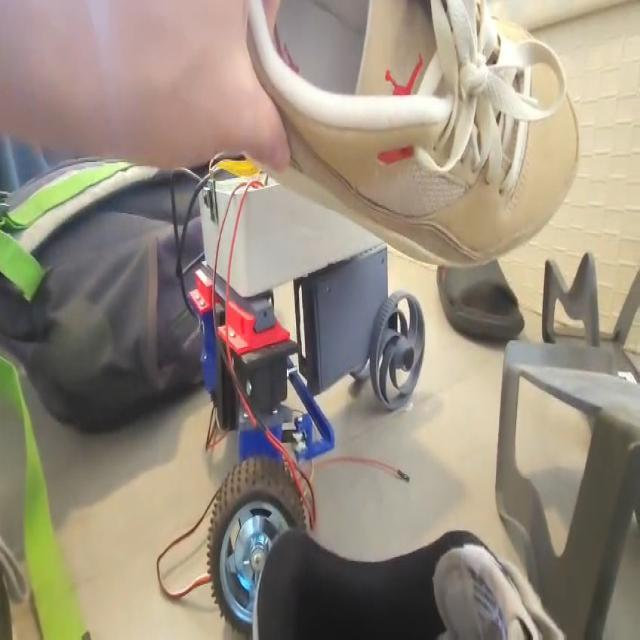Robot: (186, 169, 425, 640)
